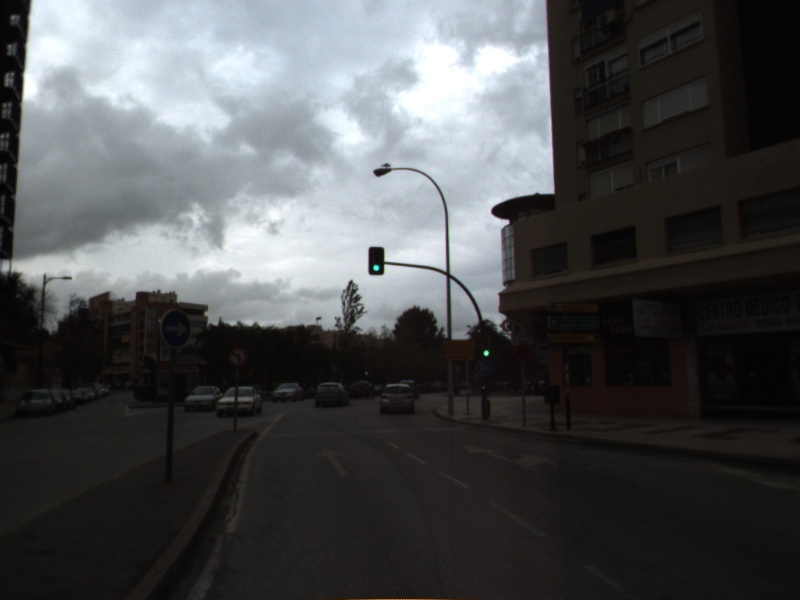STRAIGHT: (313, 445, 353, 478)
STRAIGHT_RIGHT: (461, 442, 561, 476)
